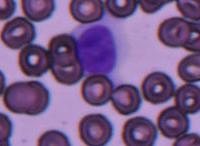L: (75, 21, 127, 76)
